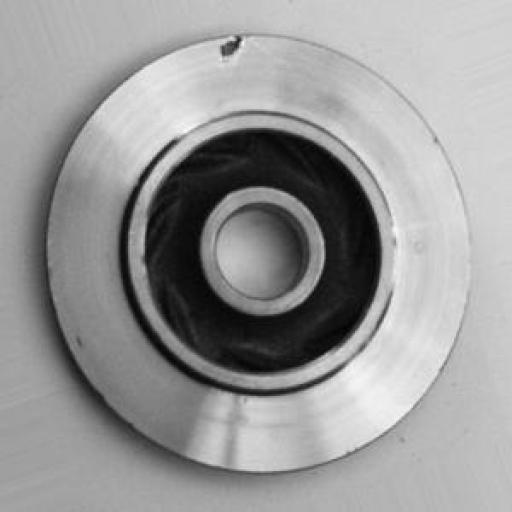defect: (201, 20, 270, 72)
